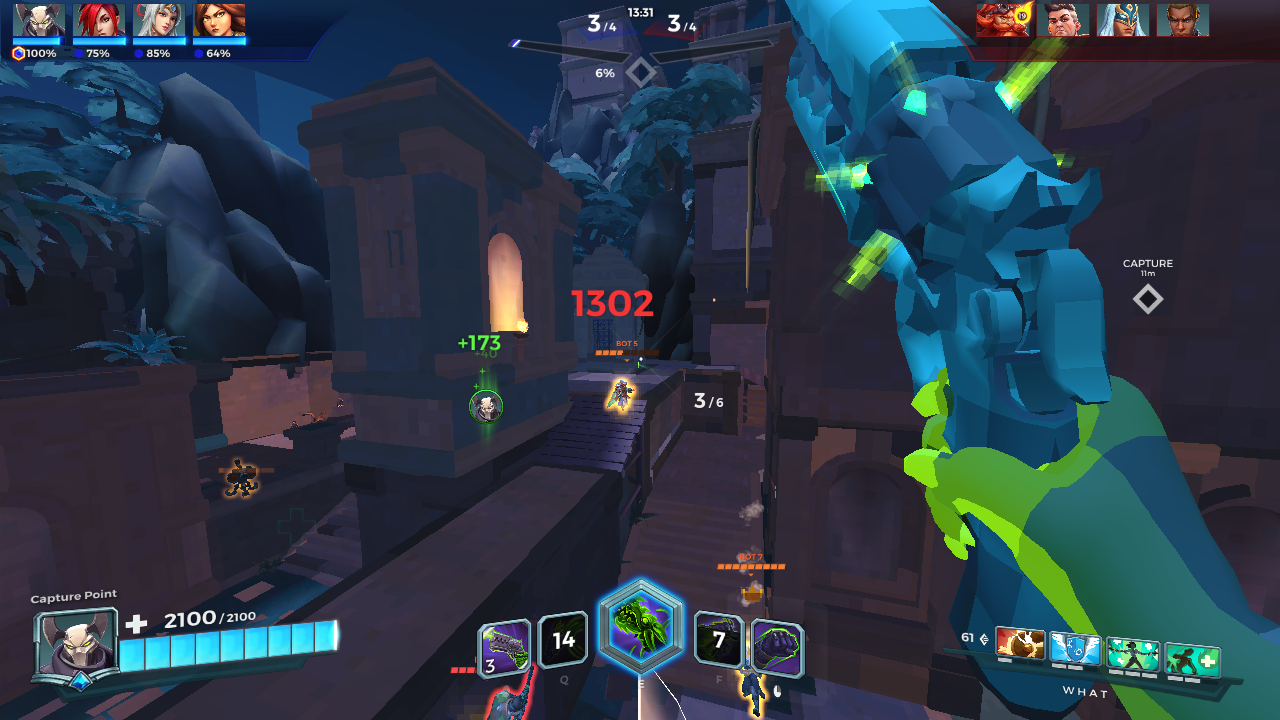model: (482, 687, 533, 720), (220, 464, 264, 500), (610, 374, 632, 420)
